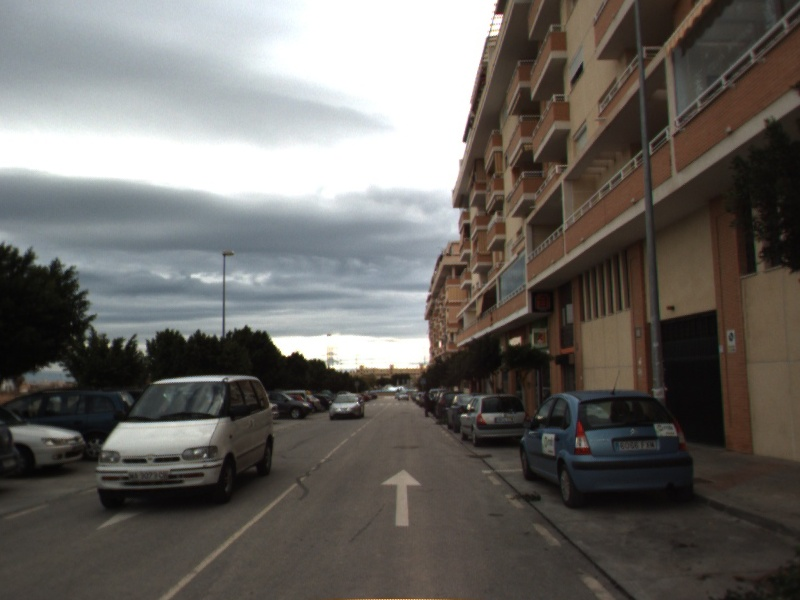STRAIGHT: (379, 467, 424, 528)
